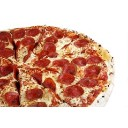pepperonipizza: (2, 27, 114, 105)
